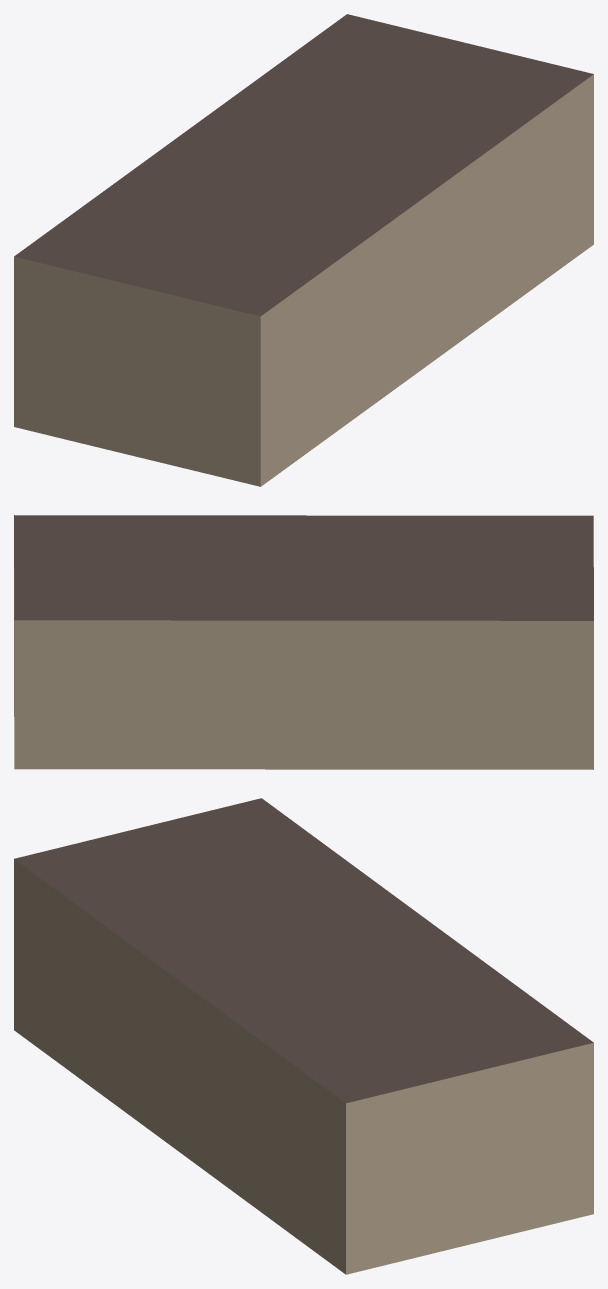
The picture shows the model from 3 angles, top to bottom: view 1: azimuth 30°, elevation 25°; view 2: azimuth 150°, elevation 25°; view 3: azimuth 270°, elevation 25°; orthographic projection. The views are drawn at different scales.
Visible parts, largest first — view 1: HP-w369237893; view 2: HP-w369237893; view 3: HP-w369237893.
Boxes of the visible parts, box(x1,y1,x2,y2) form: HP-w369237893: box(14, 14, 593, 486); HP-w369237893: box(14, 515, 593, 769); HP-w369237893: box(14, 798, 593, 1274).
Bounding box in the file's own units: 34.37 × 9 × 27.6.
